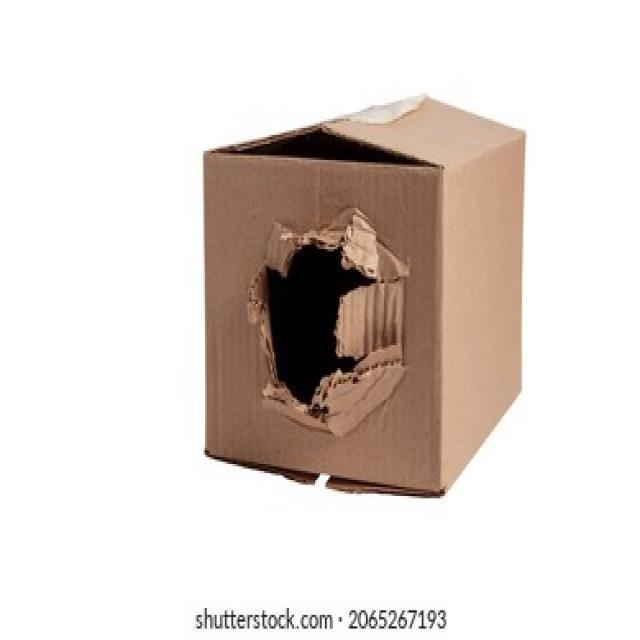hole: (238, 222, 418, 458)
